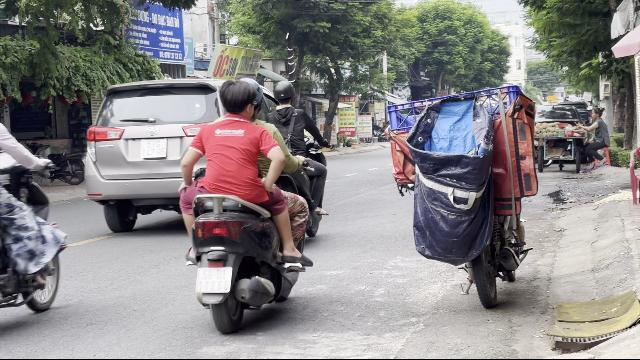helmet: (272, 80, 296, 106)
licenseplate: (195, 268, 232, 292)
motorcyclist: (175, 76, 319, 332), (261, 78, 329, 242)
nohelmet: (215, 80, 259, 122)
